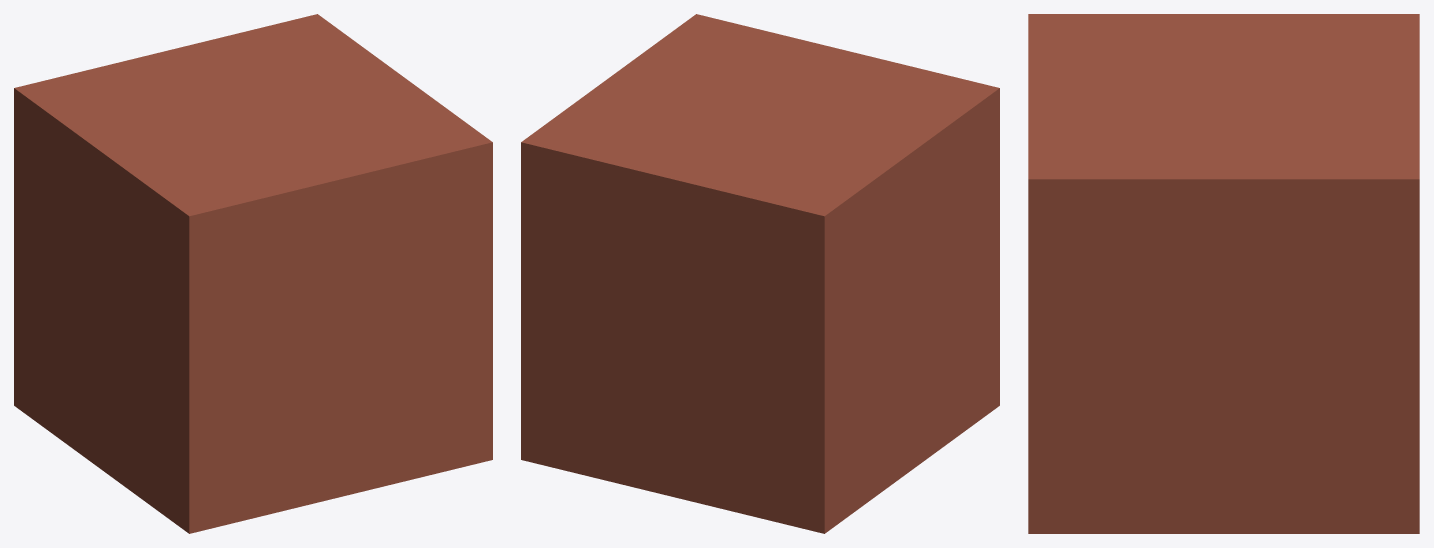
Rendered from FacadeKit_BrickPanel_LOD1.glb.
3 renders of one model, left to right at view 1: azimuth 30°, elevation 25°; view 2: azimuth 150°, elevation 25°; view 3: azimuth 270°, elevation 25°, orthographic. The views are drawn at different scales.
Visible parts, largest first — view 1: FacadeKit_BrickPanel_LOD1; view 2: FacadeKit_BrickPanel_LOD1; view 3: FacadeKit_BrickPanel_LOD1.
Boxes of the visible parts, x1=… form: FacadeKit_BrickPanel_LOD1: x1=14, y1=14, x2=492, y2=533; FacadeKit_BrickPanel_LOD1: x1=521, y1=14, x2=999, y2=533; FacadeKit_BrickPanel_LOD1: x1=1028, y1=14, x2=1419, y2=533.
Size of the model in its own units: 1 by 1 by 1.
